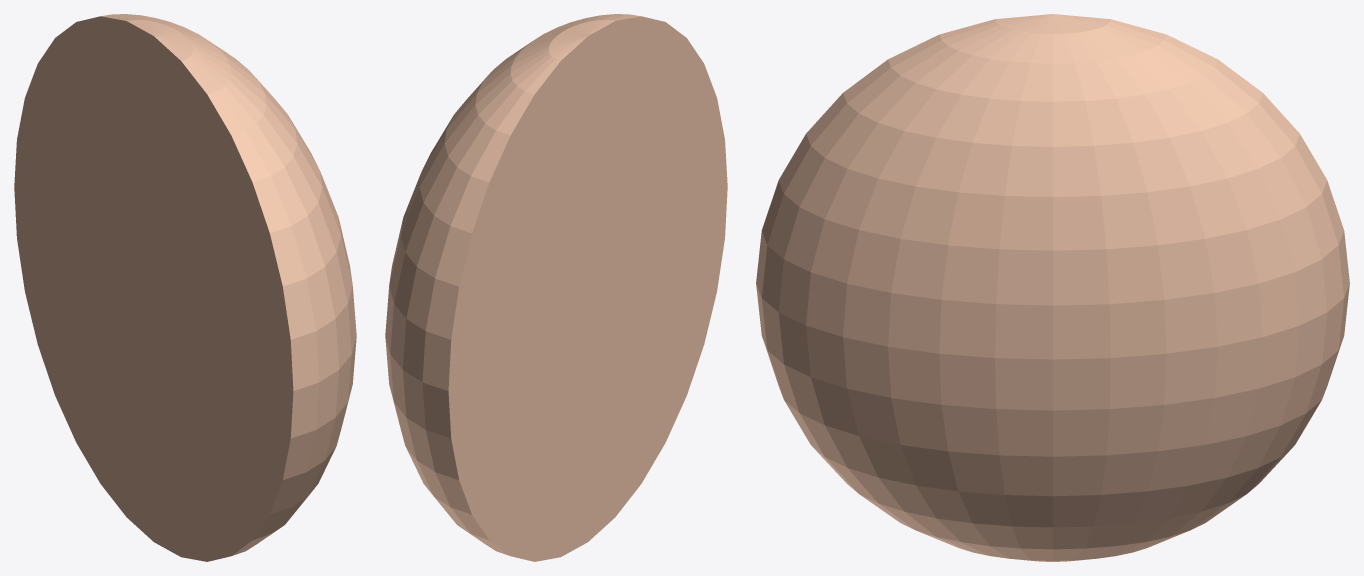
File: button.glb
The picture shows the model from 3 angles, left to right: view 1: azimuth 30°, elevation 25°; view 2: azimuth 150°, elevation 25°; view 3: azimuth 270°, elevation 25°; orthographic projection. The views are drawn at different scales.
Parts seen in each view (by area): view 1: Sphere; view 2: Sphere; view 3: Sphere.
Boxes of the visible parts, left/top/right/bottom form: Sphere: left=14, top=14, right=356, bottom=561; Sphere: left=385, top=14, right=727, bottom=561; Sphere: left=756, top=14, right=1349, bottom=561.
Size of the model in its own units: 0.00387 by 0.0127 by 0.0127.
